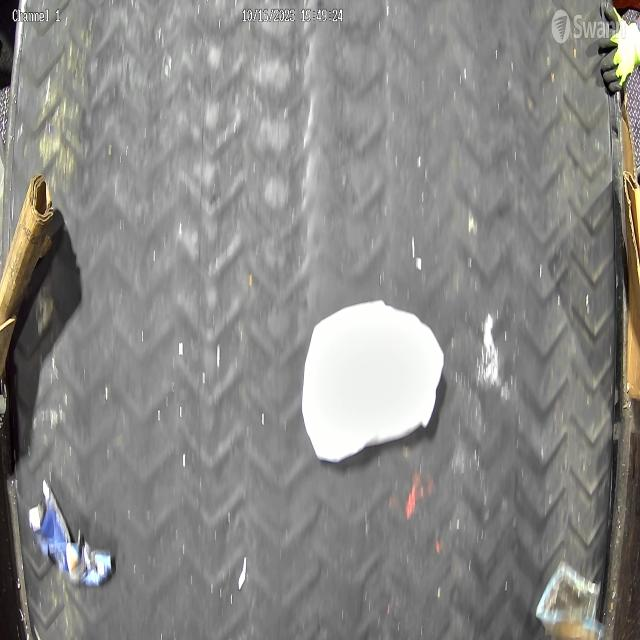milk_jug: (300, 298, 447, 467)
